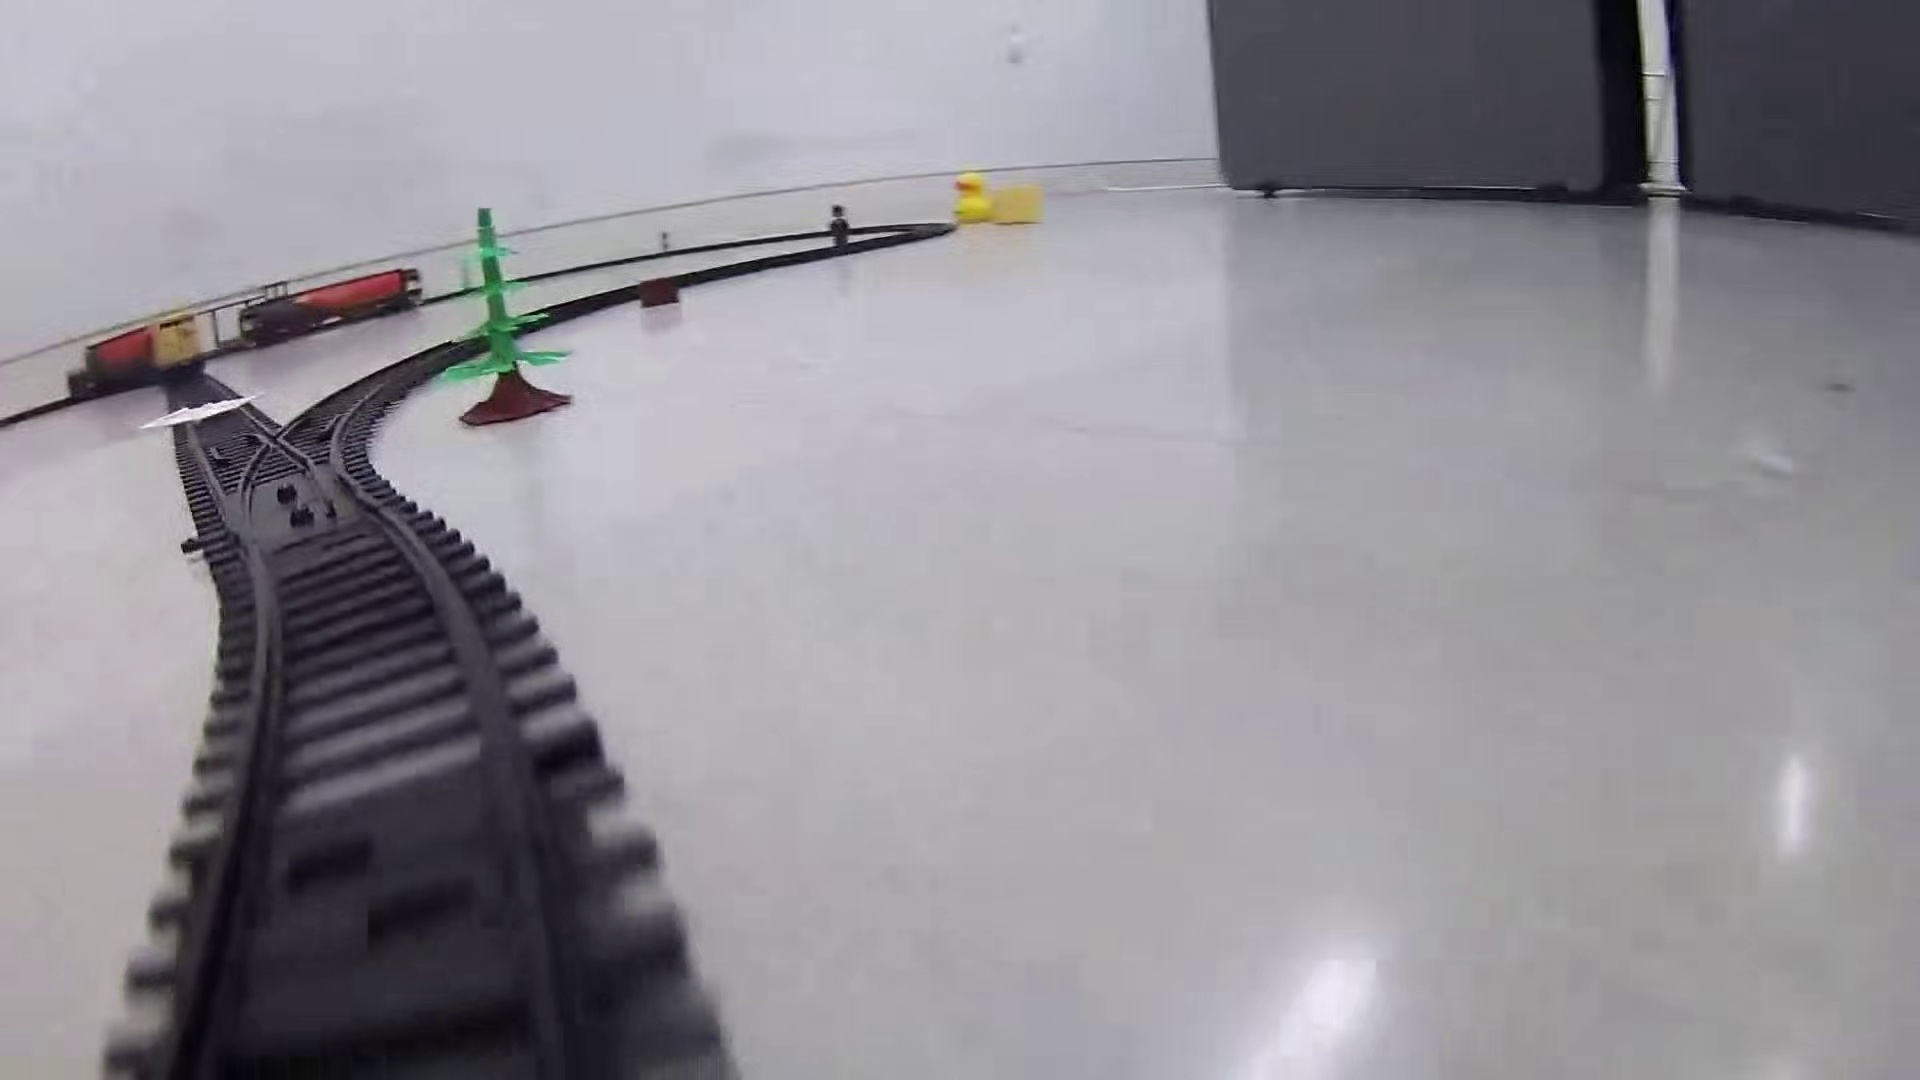box: (634, 271, 681, 314)
people: (820, 201, 853, 253)
tree: (440, 202, 577, 431)
web: (135, 387, 264, 437)
